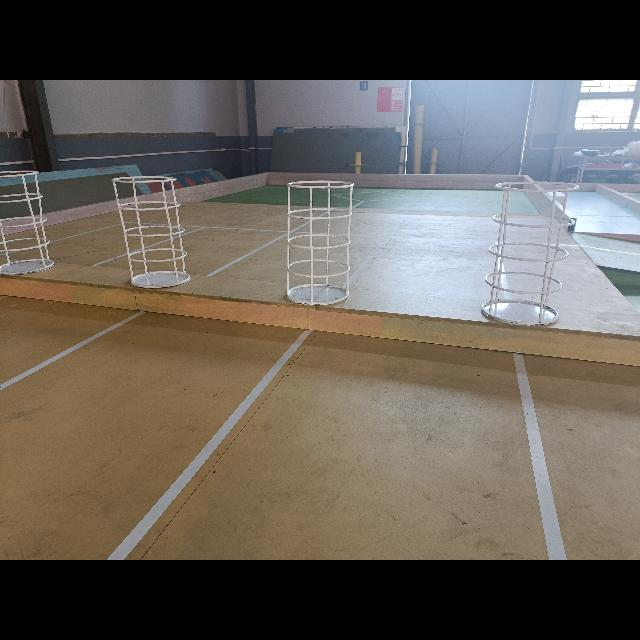S: (480, 181, 580, 328), (110, 175, 191, 288), (285, 179, 355, 306), (0, 169, 55, 276)
